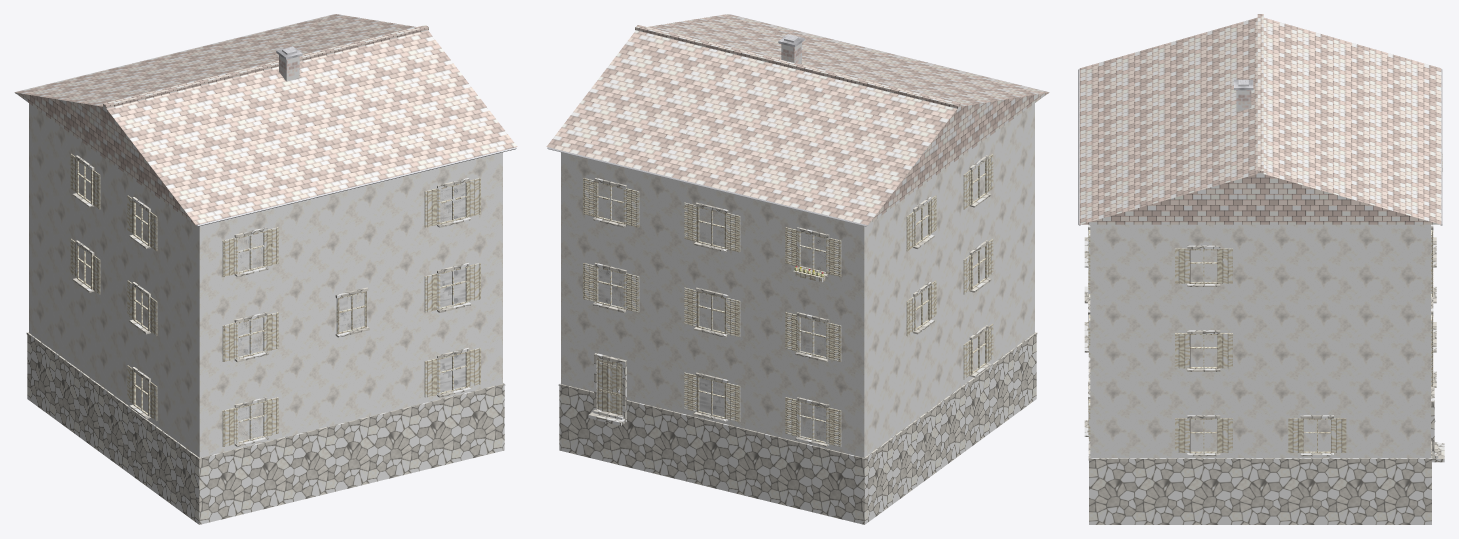
The picture shows the model from 3 angles, left to right: view 1: azimuth 30°, elevation 25°; view 2: azimuth 150°, elevation 25°; view 3: azimuth 270°, elevation 25°; orthographic projection.
Parts seen in each view (by area): view 1: b947602166; view 2: b947602166; view 3: b947602166.
Boxes of the visible parts, x1,y1,x2,y2 form: b947602166: (14,14,517,524); b947602166: (546,14,1049,524); b947602166: (1078,14,1444,524).
Size of the model in its own units: 12.32 by 13.75 by 12.14.
Materials: 24 (21 with a texture image).
